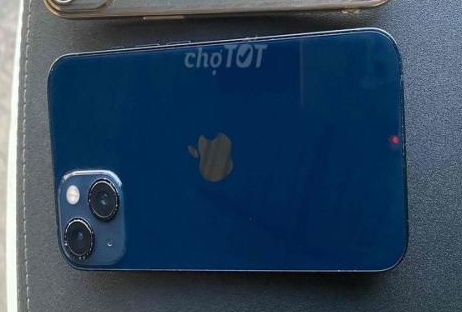scratch: (58, 173, 124, 266), (384, 35, 413, 180)
